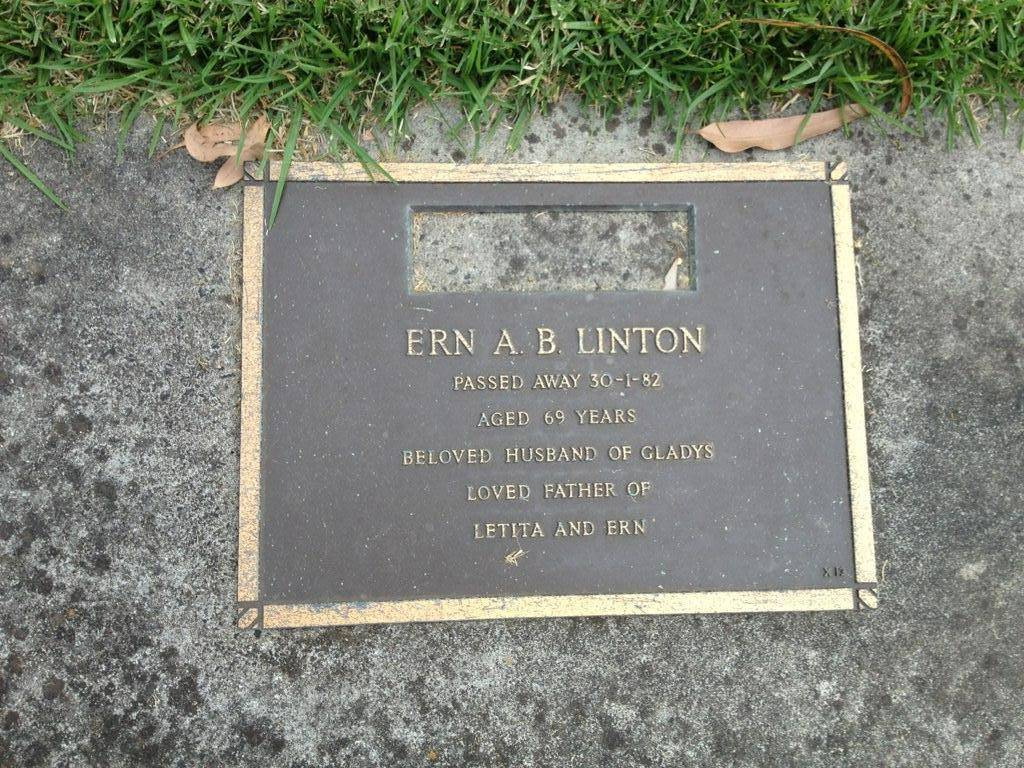flat: (233, 155, 883, 630)
